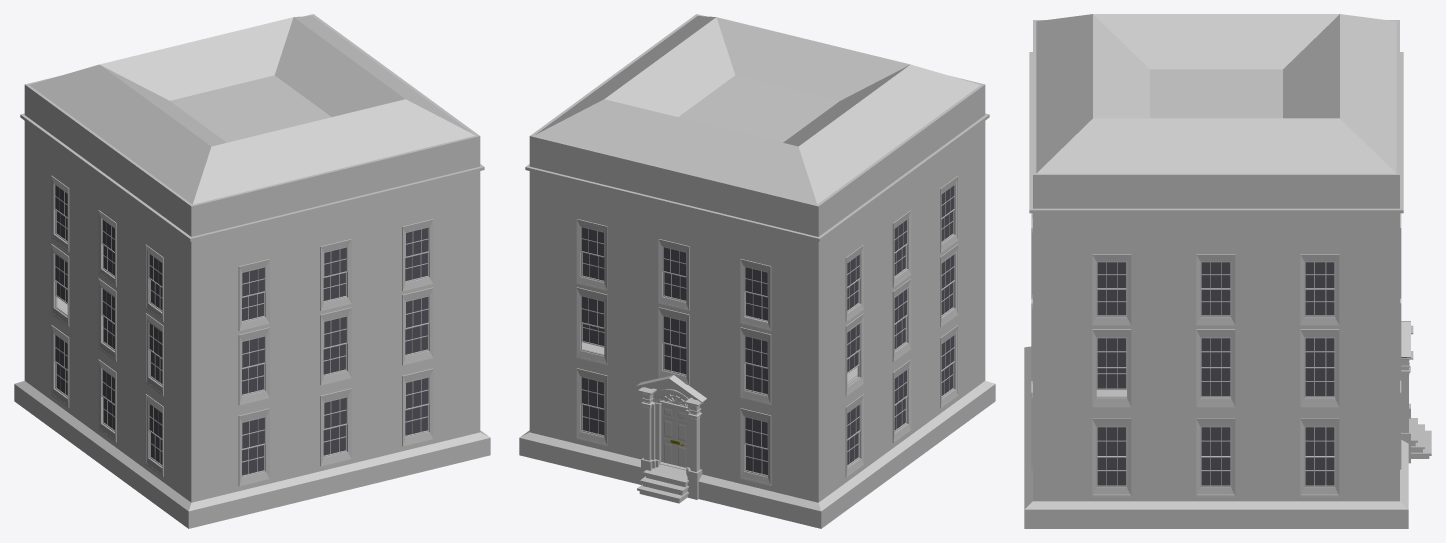
File: houseredo1.fbx
The picture shows the model from 3 angles, left to right: view 1: azimuth 30°, elevation 25°; view 2: azimuth 150°, elevation 25°; view 3: azimuth 270°, elevation 25°; orthographic projection. The views are drawn at different scales.
Parts seen in each view (by area): view 1: walls_doorway_Cube_005; view 2: walls_doorway_Cube_005; view 3: walls_doorway_Cube_005.
Part boxes in pixels (<box>): walls_doorway_Cube_005: <box>14,14,490,528</box>; walls_doorway_Cube_005: <box>519,14,995,528</box>; walls_doorway_Cube_005: <box>1024,14,1431,528</box>.
Size of the model in its own units: 1600 by 1755 by 1696.
